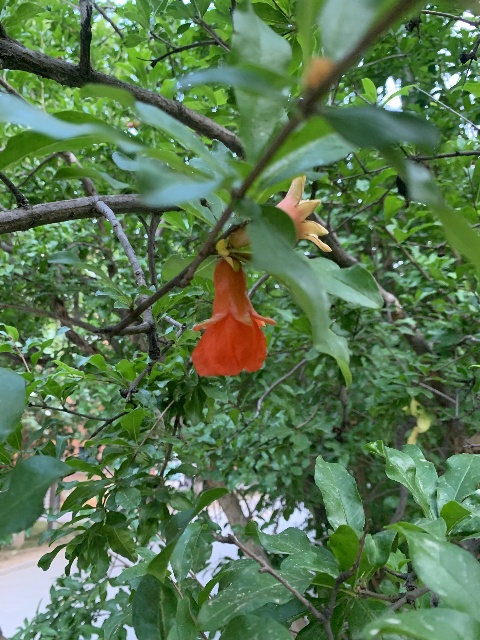early-fruit: (238, 173, 330, 251)
flower: (191, 256, 274, 376)
